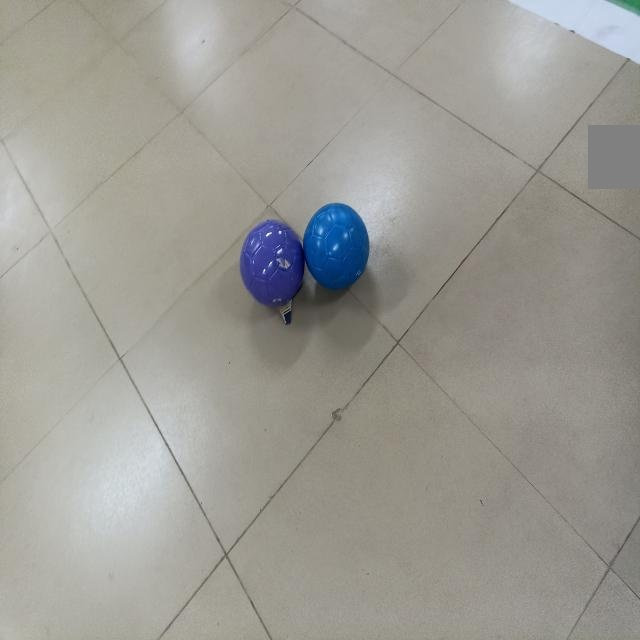blue_ball: (308, 201, 360, 287)
purple_ball: (242, 223, 298, 302)
